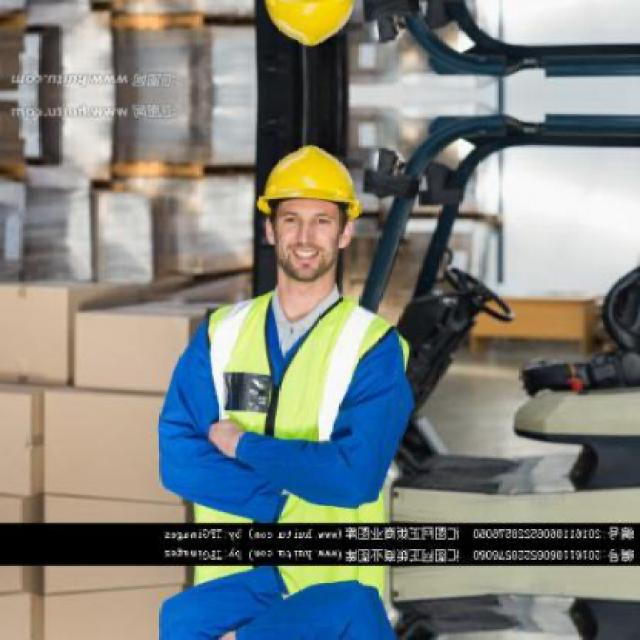helmet: (249, 131, 365, 292), (249, 0, 366, 62)
